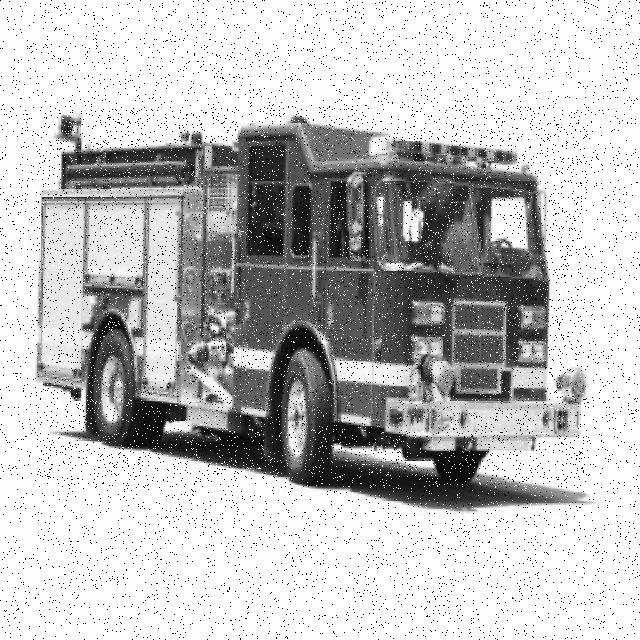Fire Truck: (37, 107, 587, 488)
